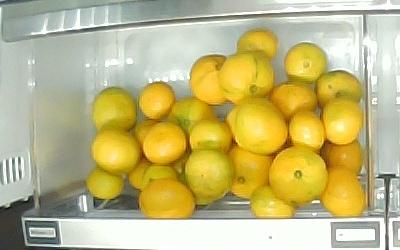tangerine: (268, 147, 328, 206), (233, 102, 288, 154), (225, 144, 273, 200), (220, 54, 275, 101), (184, 150, 233, 202), (190, 54, 236, 106), (139, 178, 196, 219), (322, 166, 366, 216), (90, 131, 139, 174), (93, 88, 137, 134), (316, 70, 363, 112), (168, 95, 219, 132), (323, 99, 364, 145), (269, 82, 318, 120), (284, 43, 328, 85), (143, 122, 187, 163), (320, 138, 364, 176), (287, 110, 325, 152), (187, 120, 236, 151), (236, 30, 280, 64), (251, 188, 296, 219), (139, 82, 175, 120), (87, 168, 125, 199), (140, 164, 178, 192)
